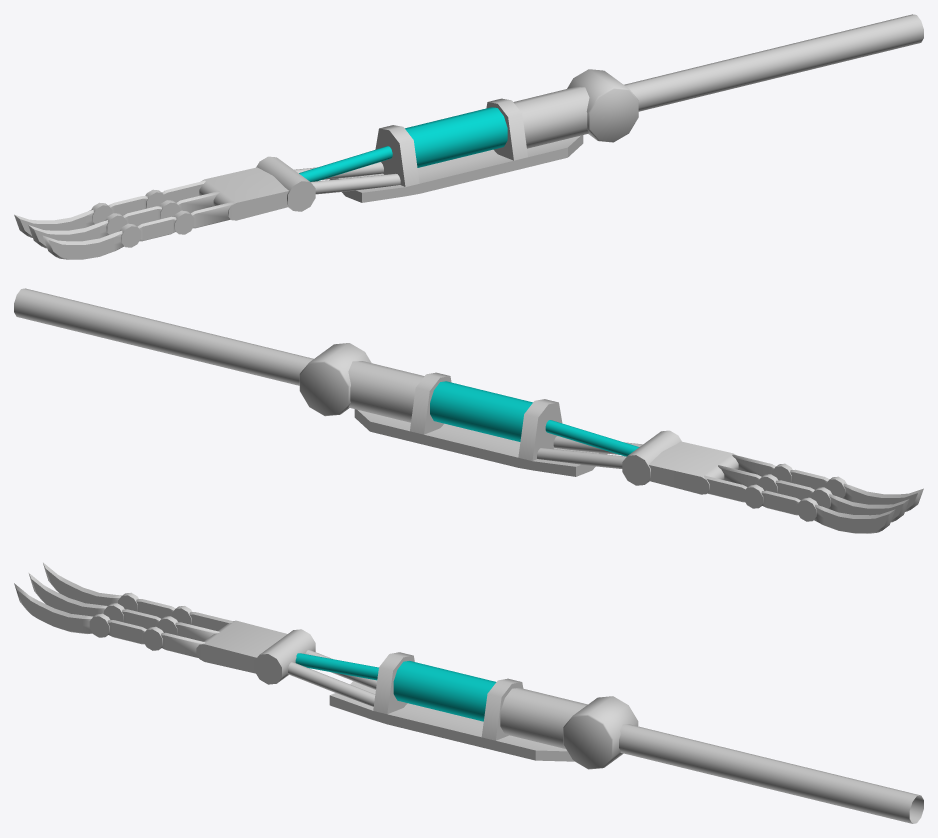
The model's file is Melee_Arm.fbx.
The picture shows the model from 3 angles, top to bottom: view 1: azimuth 30°, elevation 25°; view 2: azimuth 150°, elevation 25°; view 3: azimuth 330°, elevation 25°; orthographic projection.
Visible parts, largest first — view 1: mesh_melee_robot_Arm; view 2: mesh_melee_robot_Arm; view 3: mesh_melee_robot_Arm.
Part boxes in pixels (x1,y1,x2,y2): mesh_melee_robot_Arm: [14, 14, 923, 259]; mesh_melee_robot_Arm: [14, 288, 923, 533]; mesh_melee_robot_Arm: [14, 562, 923, 823].
Bounding box in the file's own units: 151 × 9.93 × 9.88.
